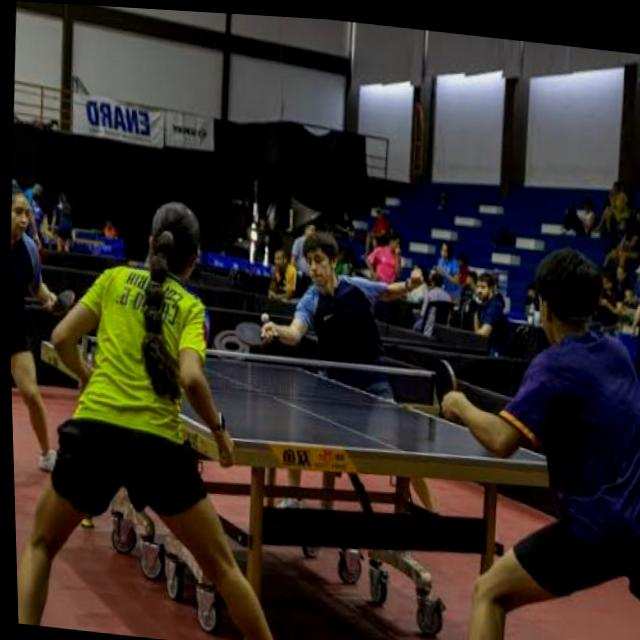TT Net: (81, 333, 465, 421)
TT Racket: (425, 351, 462, 417), (47, 283, 81, 321), (233, 320, 273, 349)
TT Table: (44, 342, 575, 460)
